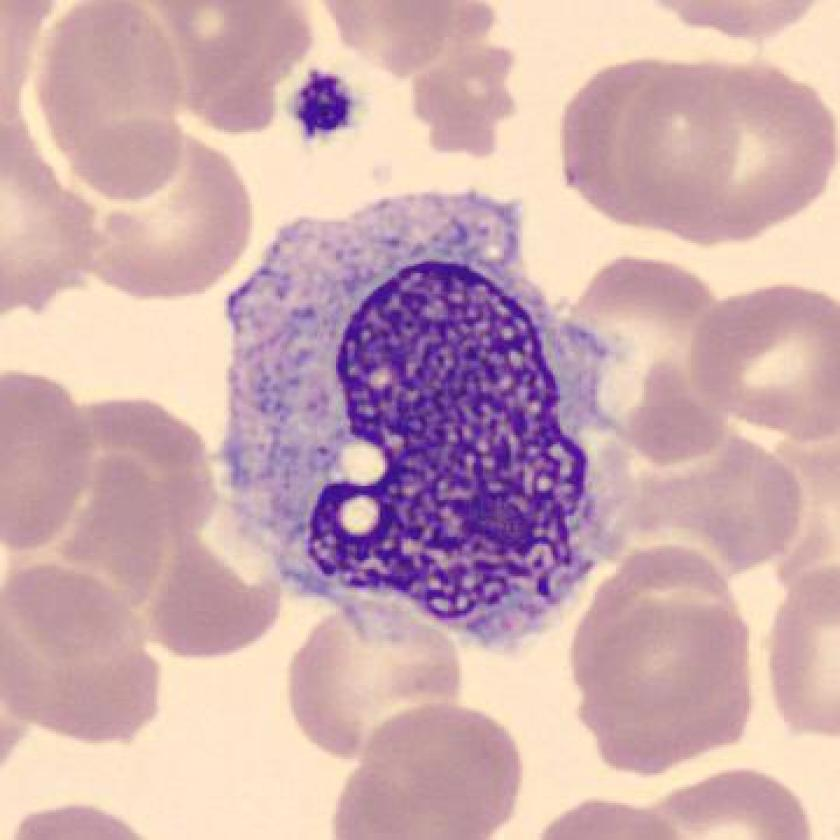monocyte: (206, 177, 657, 663)
